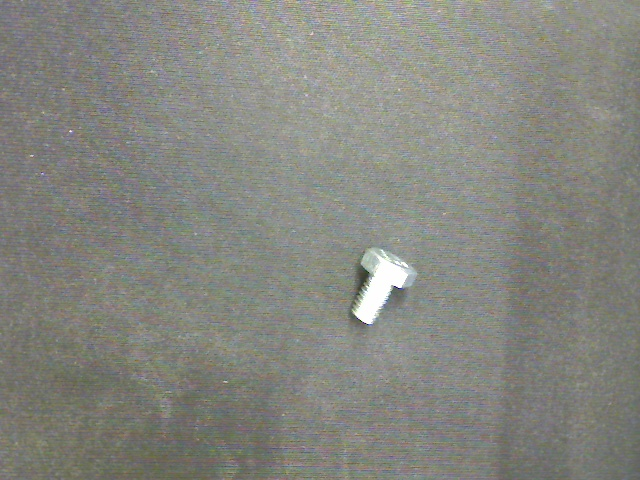screw0: (349, 245, 418, 325)
